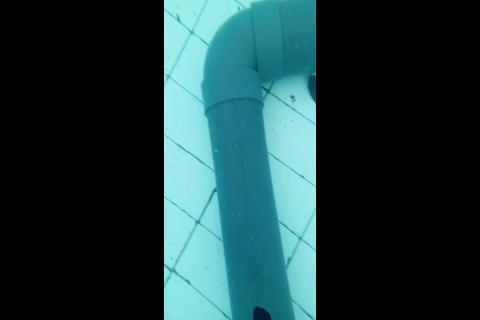kebocoran: (251, 304, 271, 320)
